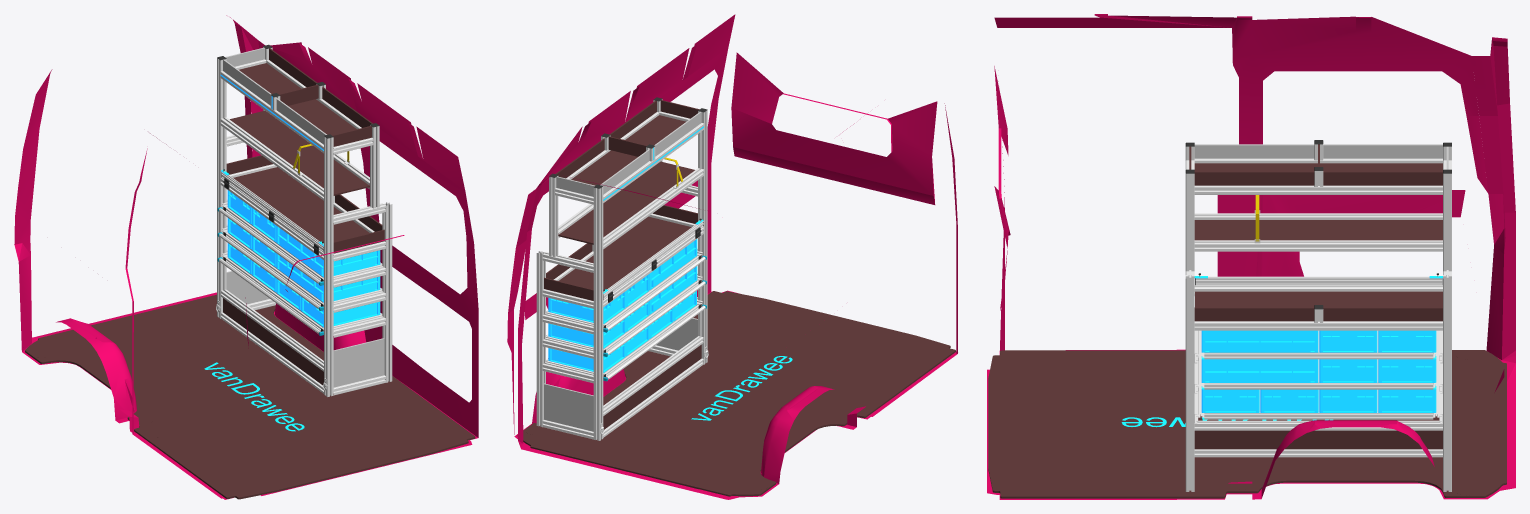
File: vd_export_regalova_vestavba_mercedes_sprinter_l1h2_95159404.glb
3 renders of one model, left to right at view 1: azimuth 30°, elevation 25°; view 2: azimuth 150°, elevation 25°; view 3: azimuth 270°, elevation 25°, orthographic. The views are drawn at different scales.
Visible parts, largest first — view 1: SomeName041_Mesh_14006, SomeName_Mesh_0008_(1), blue_klt (×3), PR10_1266x306 (×2), 45x45x1750_noha (×2), PR10_1266x395, CUB10_395x260 (×2), 45x45x369_Zx2_2 (×4), 45x45x1267_Zx2_2 (×2), 45x45x1200_noha, trubka25 (×3), PR10_1291x130 (+15 smaller); view 2: SomeName041_Mesh_14006, SomeName_Mesh_0008_(1), blue_klt (×3), PR10_1266x306 (×2), 45x45x1750_noha (×2), PR10_1266x395, CUB10_395x260 (×2), 45x45x1267_Zx2_2 (×2), 45x45x369_Zx2 (×3), trubka25 (×3), 45x45x1200_noha, PR10_1291x130 (+15 smaller); view 3: SomeName041_Mesh_14006, SomeName_Mesh_0008_(1), blue_klt (×3), PR10_1266x306 (×2), 45x45x1267_Zx2 (×3), 45x45x1267_Zx2_2 (×3), PR10_1291x130, PR10_1266x395, 45x45x1200_noha (×2), PR10_635x89_2 (×2), PR10_635x89 (×2), 30x30x1168_Zx2 (×2) (+7 smaller).
Boxes of the visible parts, left/top/right/bottom form: SomeName041_Mesh_14006: left=25, top=294, right=475, bottom=499; SomeName_Mesh_0008_(1): left=14, top=15, right=478, bottom=499; blue_klt (×3): left=227, top=190, right=380, bottom=327; PR10_1266x306 (×2): left=230, top=63, right=369, bottom=195; 45x45x1750_noha (×2): left=217, top=58, right=333, bottom=396; PR10_1266x395: left=233, top=167, right=369, bottom=241; CUB10_395x260 (×2): left=226, top=271, right=384, bottom=387; 45x45x369_Zx2_2 (×4): left=333, top=203, right=385, bottom=337; 45x45x1267_Zx2_2 (×2): left=220, top=71, right=323, bottom=200; 45x45x1200_noha: left=382, top=202, right=392, bottom=382; trubka25 (×3): left=219, top=208, right=320, bottom=334; PR10_1291x130: left=223, top=298, right=323, bottom=385; SomeName041_Mesh_14006: left=517, top=291, right=955, bottom=496; SomeName_Mesh_0008_(1): left=507, top=14, right=957, bottom=499; blue_klt (×3): left=548, top=239, right=697, bottom=372; PR10_1266x306 (×2): left=558, top=115, right=694, bottom=244; 45x45x1750_noha (×2): left=593, top=110, right=707, bottom=440; PR10_1266x395: left=559, top=216, right=691, bottom=289; CUB10_395x260 (×2): left=544, top=318, right=697, bottom=431; 45x45x1267_Zx2_2 (×2): left=603, top=123, right=703, bottom=249; 45x45x369_Zx2 (×3): left=542, top=313, right=593, bottom=383; trubka25 (×3): left=606, top=257, right=705, bottom=379; 45x45x1200_noha: left=536, top=251, right=545, bottom=427; PR10_1291x130: left=603, top=344, right=701, bottom=429; SomeName041_Mesh_14006: left=988, top=350, right=1506, bottom=498; SomeName_Mesh_0008_(1): left=987, top=14, right=1515, bottom=499; blue_klt (×3): left=1201, top=330, right=1436, bottom=412; PR10_1266x306 (×2): left=1194, top=163, right=1442, bottom=240; 45x45x1267_Zx2 (×3): left=1194, top=185, right=1442, bottom=295; 45x45x1267_Zx2_2 (×3): left=1194, top=158, right=1442, bottom=330; PR10_1291x130: left=1194, top=430, right=1442, bottom=449; PR10_1266x395: left=1195, top=291, right=1442, bottom=307; 45x45x1200_noha (×2): left=1185, top=276, right=1451, bottom=491; PR10_635x89_2 (×2): left=1194, top=171, right=1314, bottom=321; PR10_635x89 (×2): left=1323, top=171, right=1442, bottom=321; 30x30x1168_Zx2 (×2): left=1204, top=351, right=1433, bottom=389.
Bounding box in the file's own units: 1812 × 2027 × 2696.
